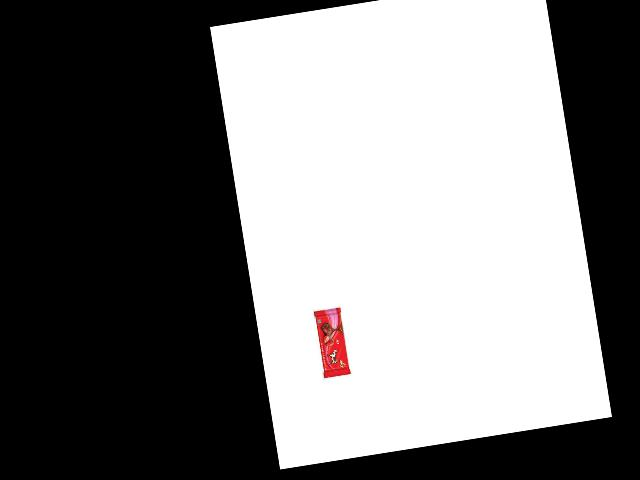chocolate: (308, 307, 351, 384)
